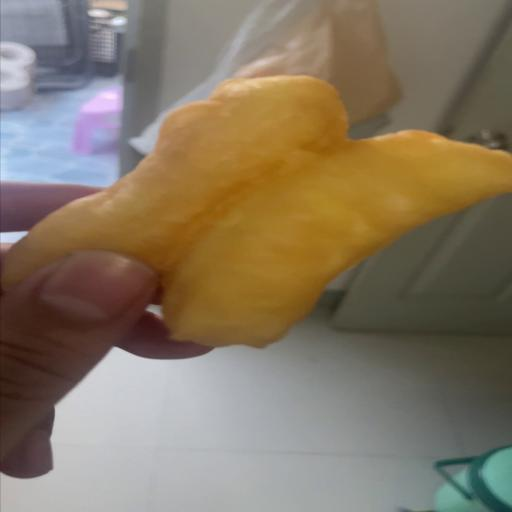street_golden_good: (3, 76, 512, 349)
